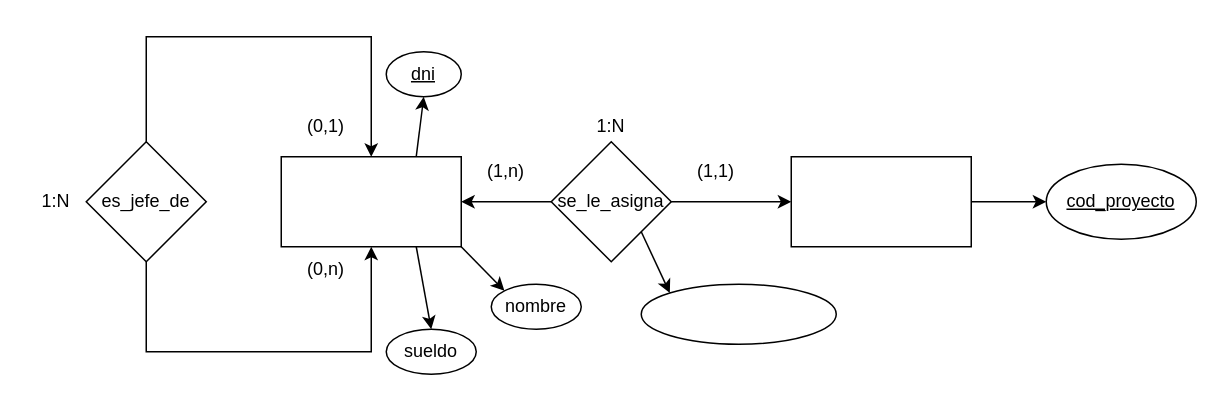
This 1223x401 diagram has some shape labels left out. The box of each missing label's shape, as (x1, y1, x2, y2) in pixels:
EMPLEADO: (280, 155, 461, 247)
fecha_asignación_proy: (640, 283, 836, 344)
PROYECTO: (790, 155, 971, 247)
